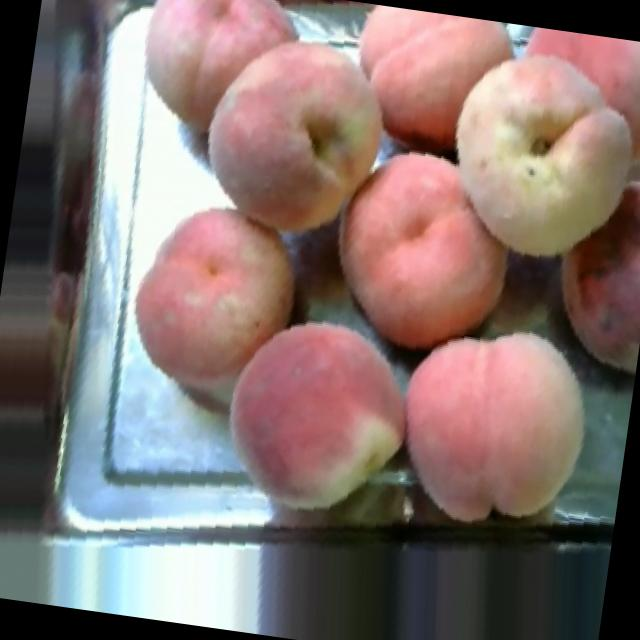Fruit: (408, 14, 640, 297), (176, 7, 420, 265), (374, 298, 617, 552), (308, 122, 542, 378), (203, 294, 430, 538), (111, 184, 321, 408), (328, 1, 536, 169), (115, 0, 314, 155)
